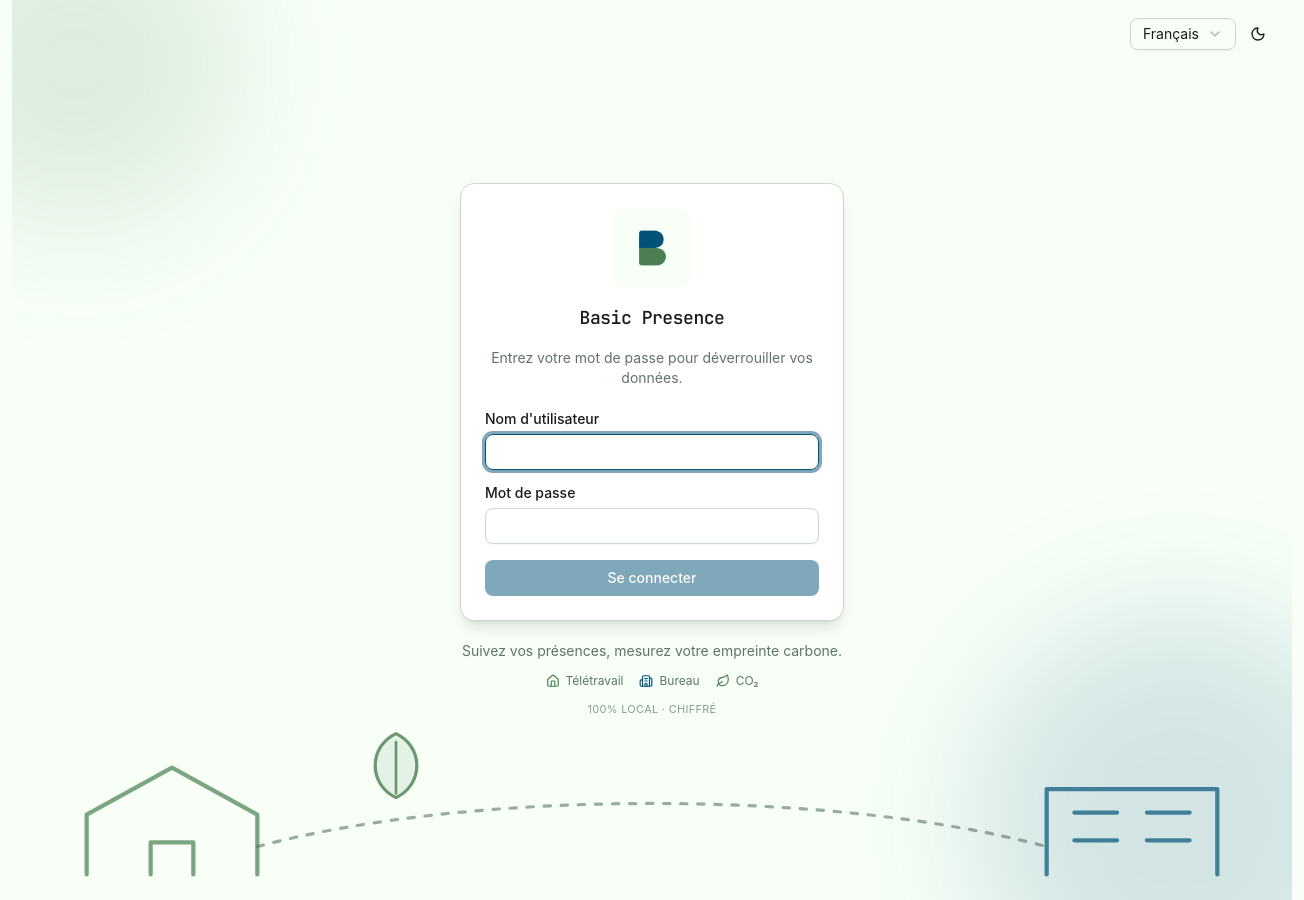
Test: profile home › shows the presence calendar and the active profile in the header badge
This screenshot has width=1304, height=900.
Type "alice" into the field labelled "Nom d'utilisateur" at (652, 452), box x1=485 y1=434 x2=819 y2=470
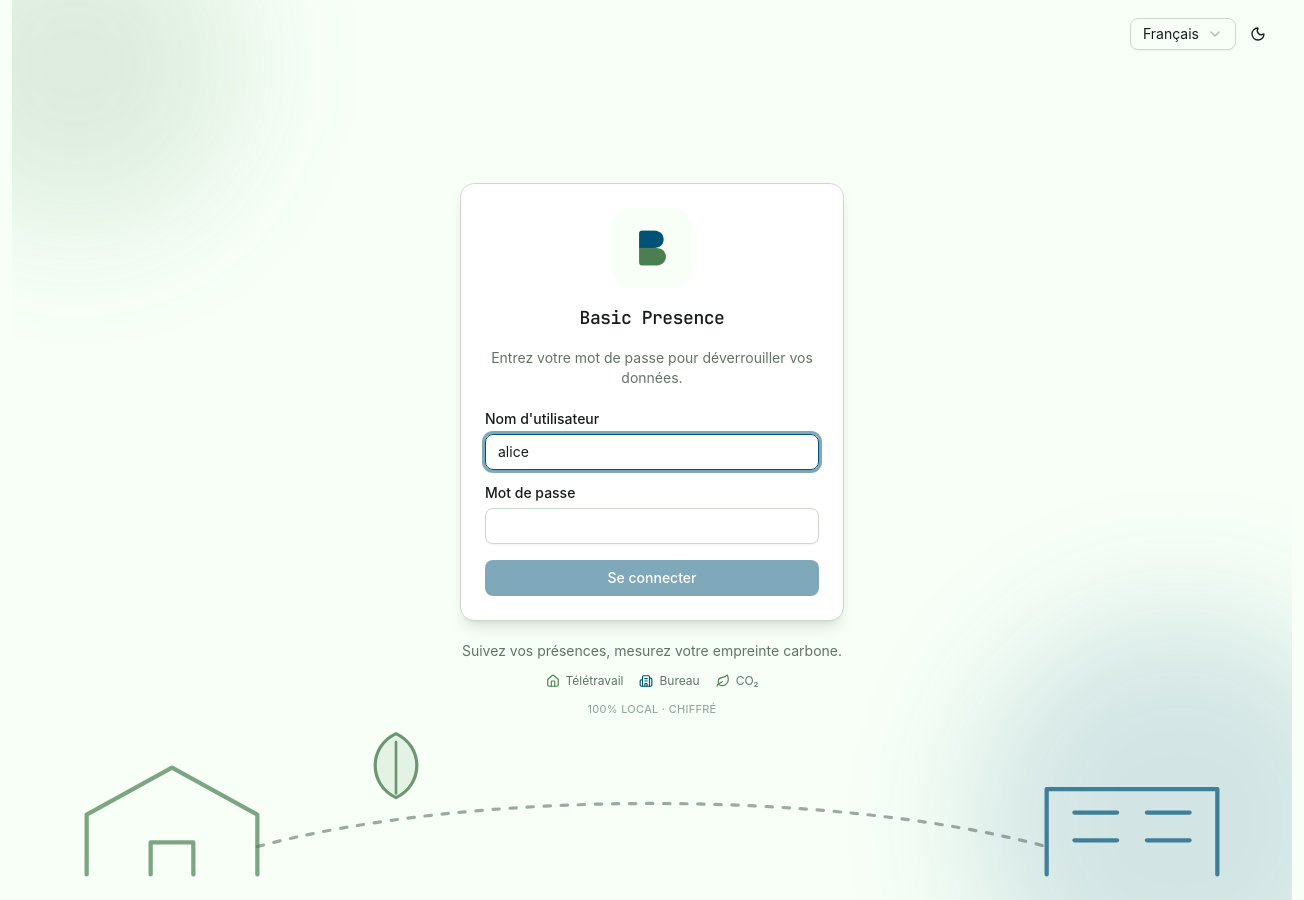
Type "secret123" into the password field labelled "Mot de passe" at (652, 526), box x1=485 y1=508 x2=819 y2=544
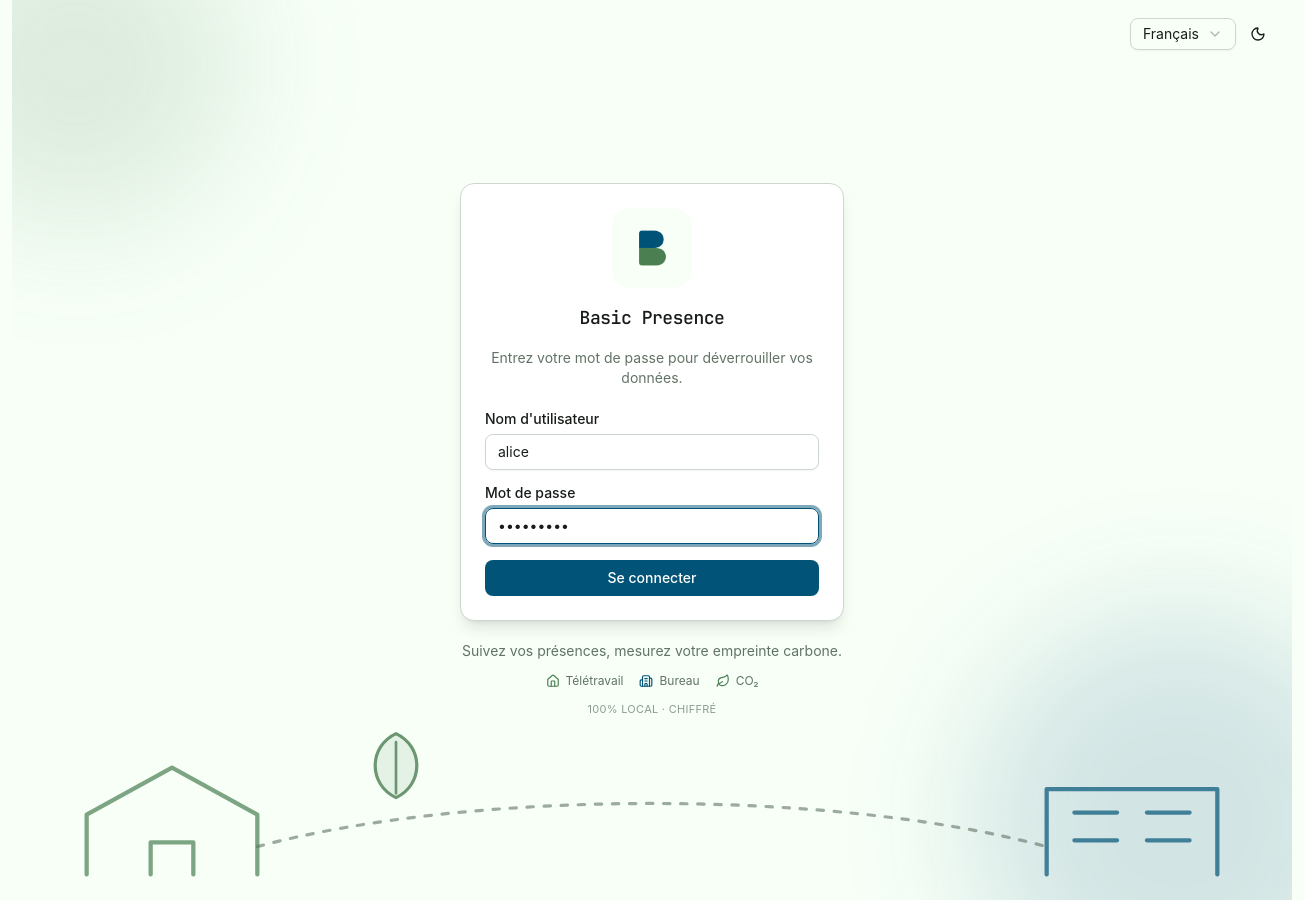
Click the button "Se connecter" at (652, 578), box x1=485 y1=560 x2=819 y2=596
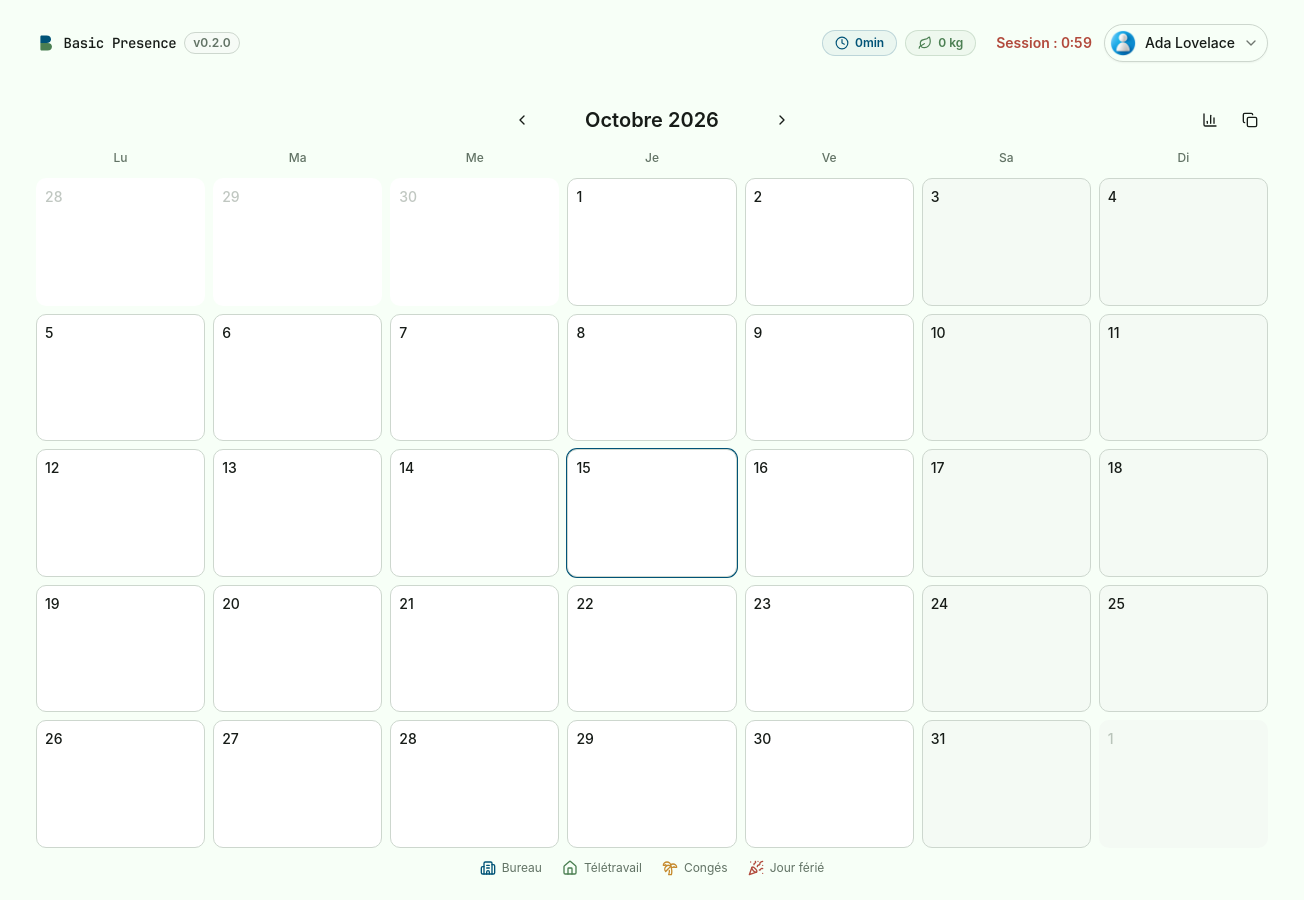
expect the text "Bureau" is shown: met, box x1=480 y1=860 x2=542 y2=876
expect the text "Ada Lovelace" is shown: met, box x1=1145 y1=33 x2=1235 y2=53
